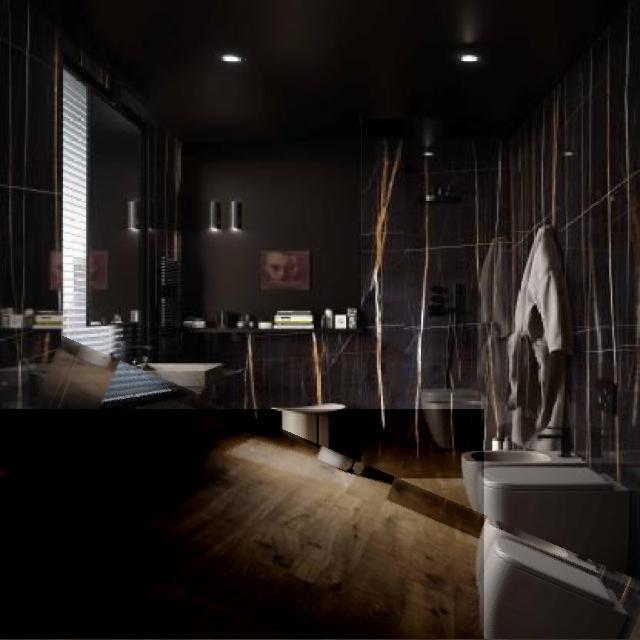floor: (0, 409, 484, 640)
